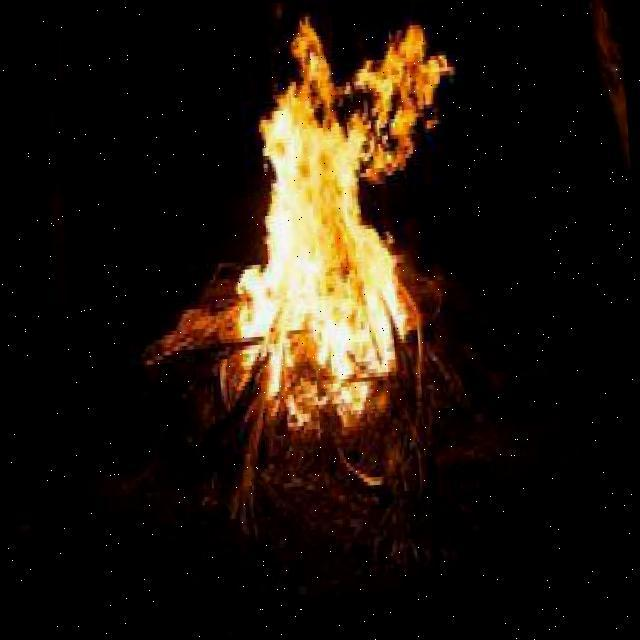Fire: (202, 0, 480, 448)
